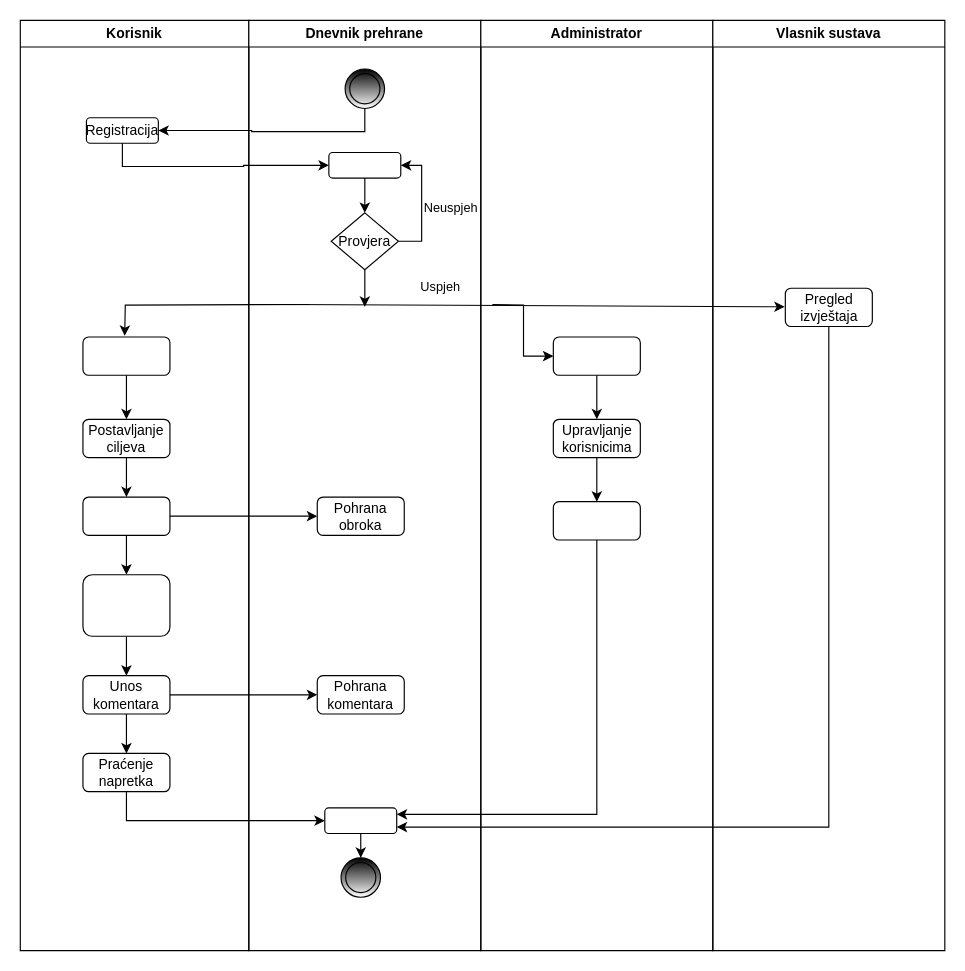
The diagram is 965 pixels wide and 971 high, and some of its shapes have lost their labels. The shapes that lost their labels are listed below. From the top down, each one's centre as x and y in pixels, then its label:
(x=364, y=164): Prijava
(x=126, y=355): Pregled profila
(x=596, y=355): Upravljanje sustavom
(x=126, y=515): Unos novih obroka
(x=596, y=520): Upravljanje obrocima
(x=126, y=605): Pregled nutritivnih informacija
(x=360, y=820): Odjava
